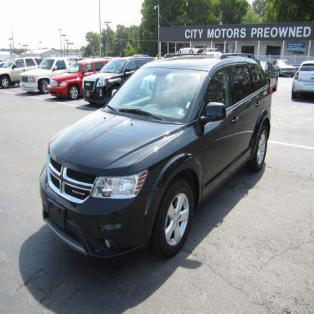Auto: (39, 58, 272, 263)
